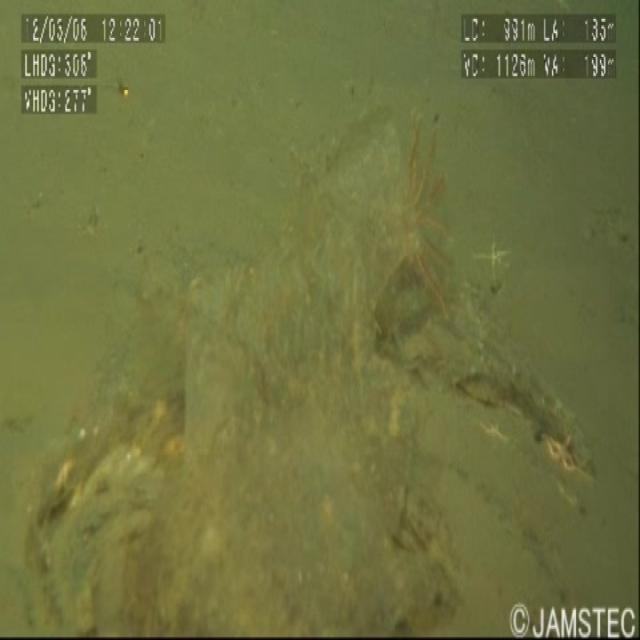Natual-Debris: (40, 393, 194, 546), (362, 98, 460, 323), (546, 397, 593, 527)
Rope: (30, 75, 616, 640)
